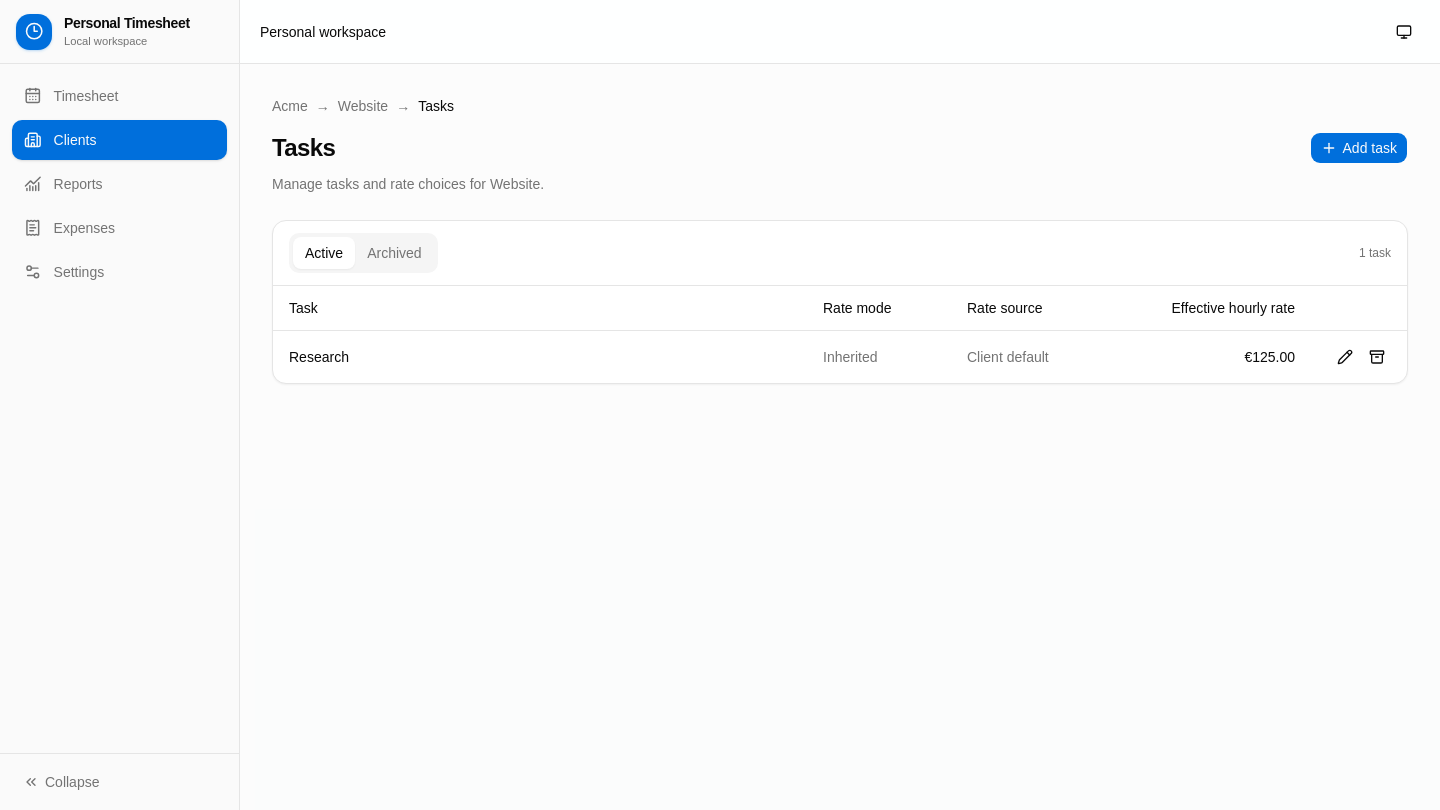
Test: application shell › injects lifecycle archive planning into the Task screen
Expected: the text "Research" is shown, [273,330,815,382]
Click the button named "Archive Research": click(1377, 356) [1363,342,1391,370]
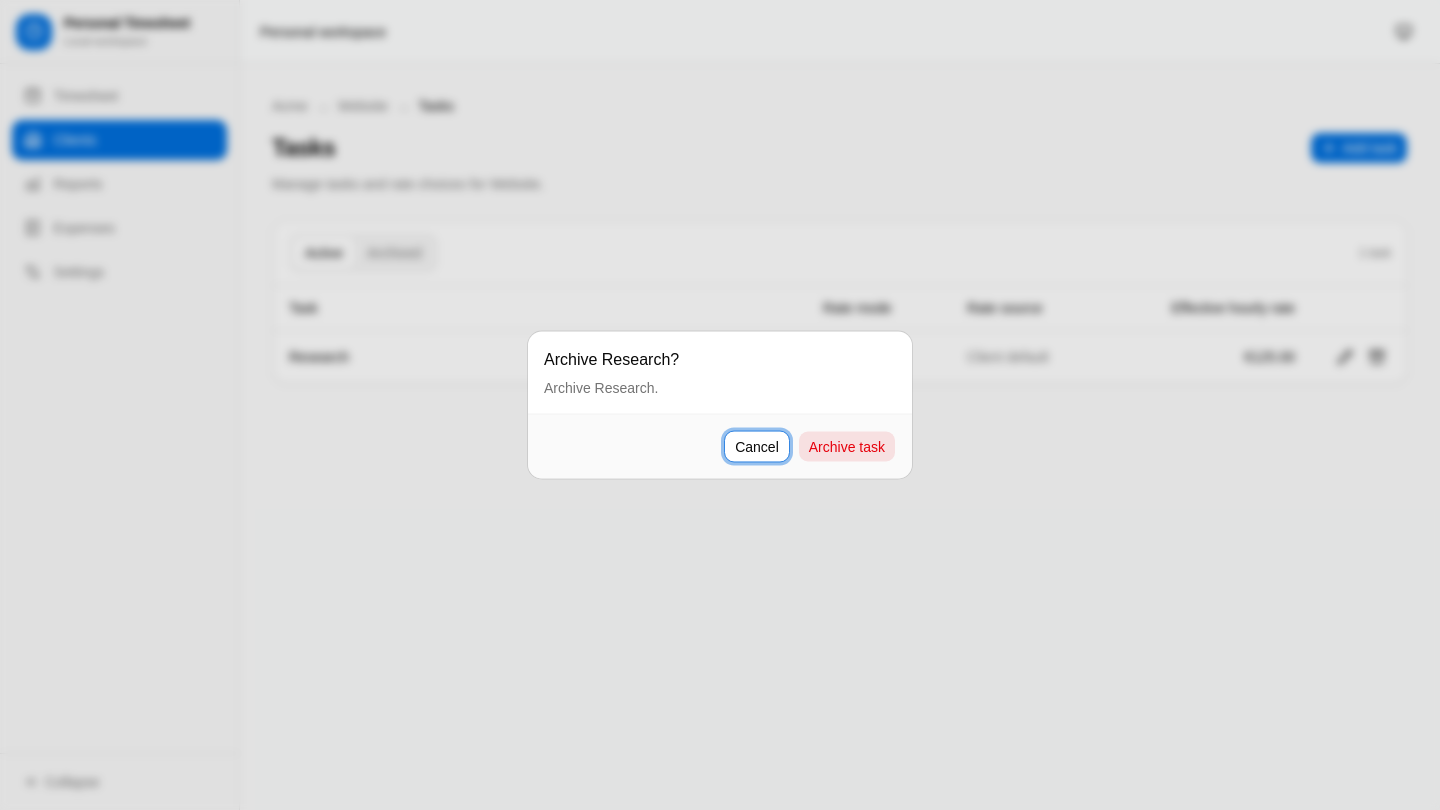
Result: the dialog shows "Archive Research." at [544,380,658,396]
